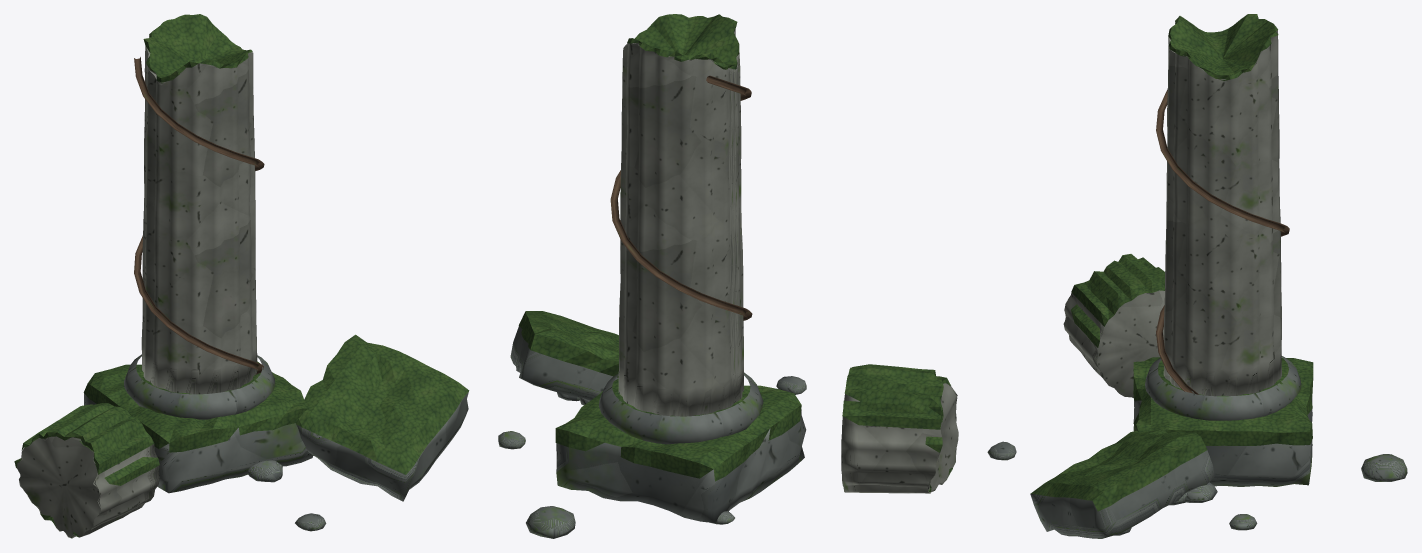
The model's file is ruined_stone_pillar.glb.
3 renders of one model, left to right at view 1: azimuth 30°, elevation 25°; view 2: azimuth 150°, elevation 25°; view 3: azimuth 270°, elevation 25°, orthographic. The views are drawn at different scales.
Visible parts, largest first — view 1: ruined_stone_pillar__stone_pale, ruined_stone_pillar__moss, ruined_stone_pillar__stone_block, ruined_stone_pillar__root; view 2: ruined_stone_pillar__stone_pale, ruined_stone_pillar__moss, ruined_stone_pillar__stone_block, ruined_stone_pillar__root; view 3: ruined_stone_pillar__stone_pale, ruined_stone_pillar__moss, ruined_stone_pillar__stone_block, ruined_stone_pillar__root.
Part boxes in pixels (box(x1,y1,x2,y2)): ruined_stone_pillar__stone_pale: box(16, 35, 257, 538); ruined_stone_pillar__moss: box(14, 14, 469, 538); ruined_stone_pillar__stone_block: box(84, 354, 468, 531); ruined_stone_pillar__root: box(134, 57, 264, 374); ruined_stone_pillar__stone_pale: box(618, 29, 958, 493); ruined_stone_pillar__moss: box(518, 14, 952, 492); ruined_stone_pillar__stone_block: box(498, 326, 806, 538); ruined_stone_pillar__root: box(610, 75, 752, 320); ruined_stone_pillar__stone_pale: box(1063, 23, 1281, 398); ruined_stone_pillar__moss: box(1030, 14, 1313, 511); ruined_stone_pillar__stone_block: box(987, 356, 1407, 538); ruined_stone_pillar__root: box(1156, 89, 1289, 394).
Bounding box in the file's own units: 3.55 × 3.46 × 2.96.
4 materials, 4 textured.
